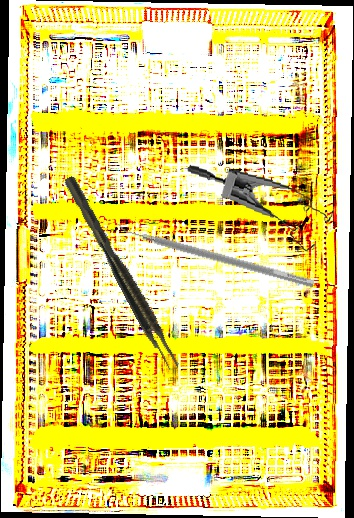Spatula Surgical: (115, 218, 317, 289)
Speculum: (178, 162, 339, 255)
Tissue Forceps: (63, 172, 182, 374)
